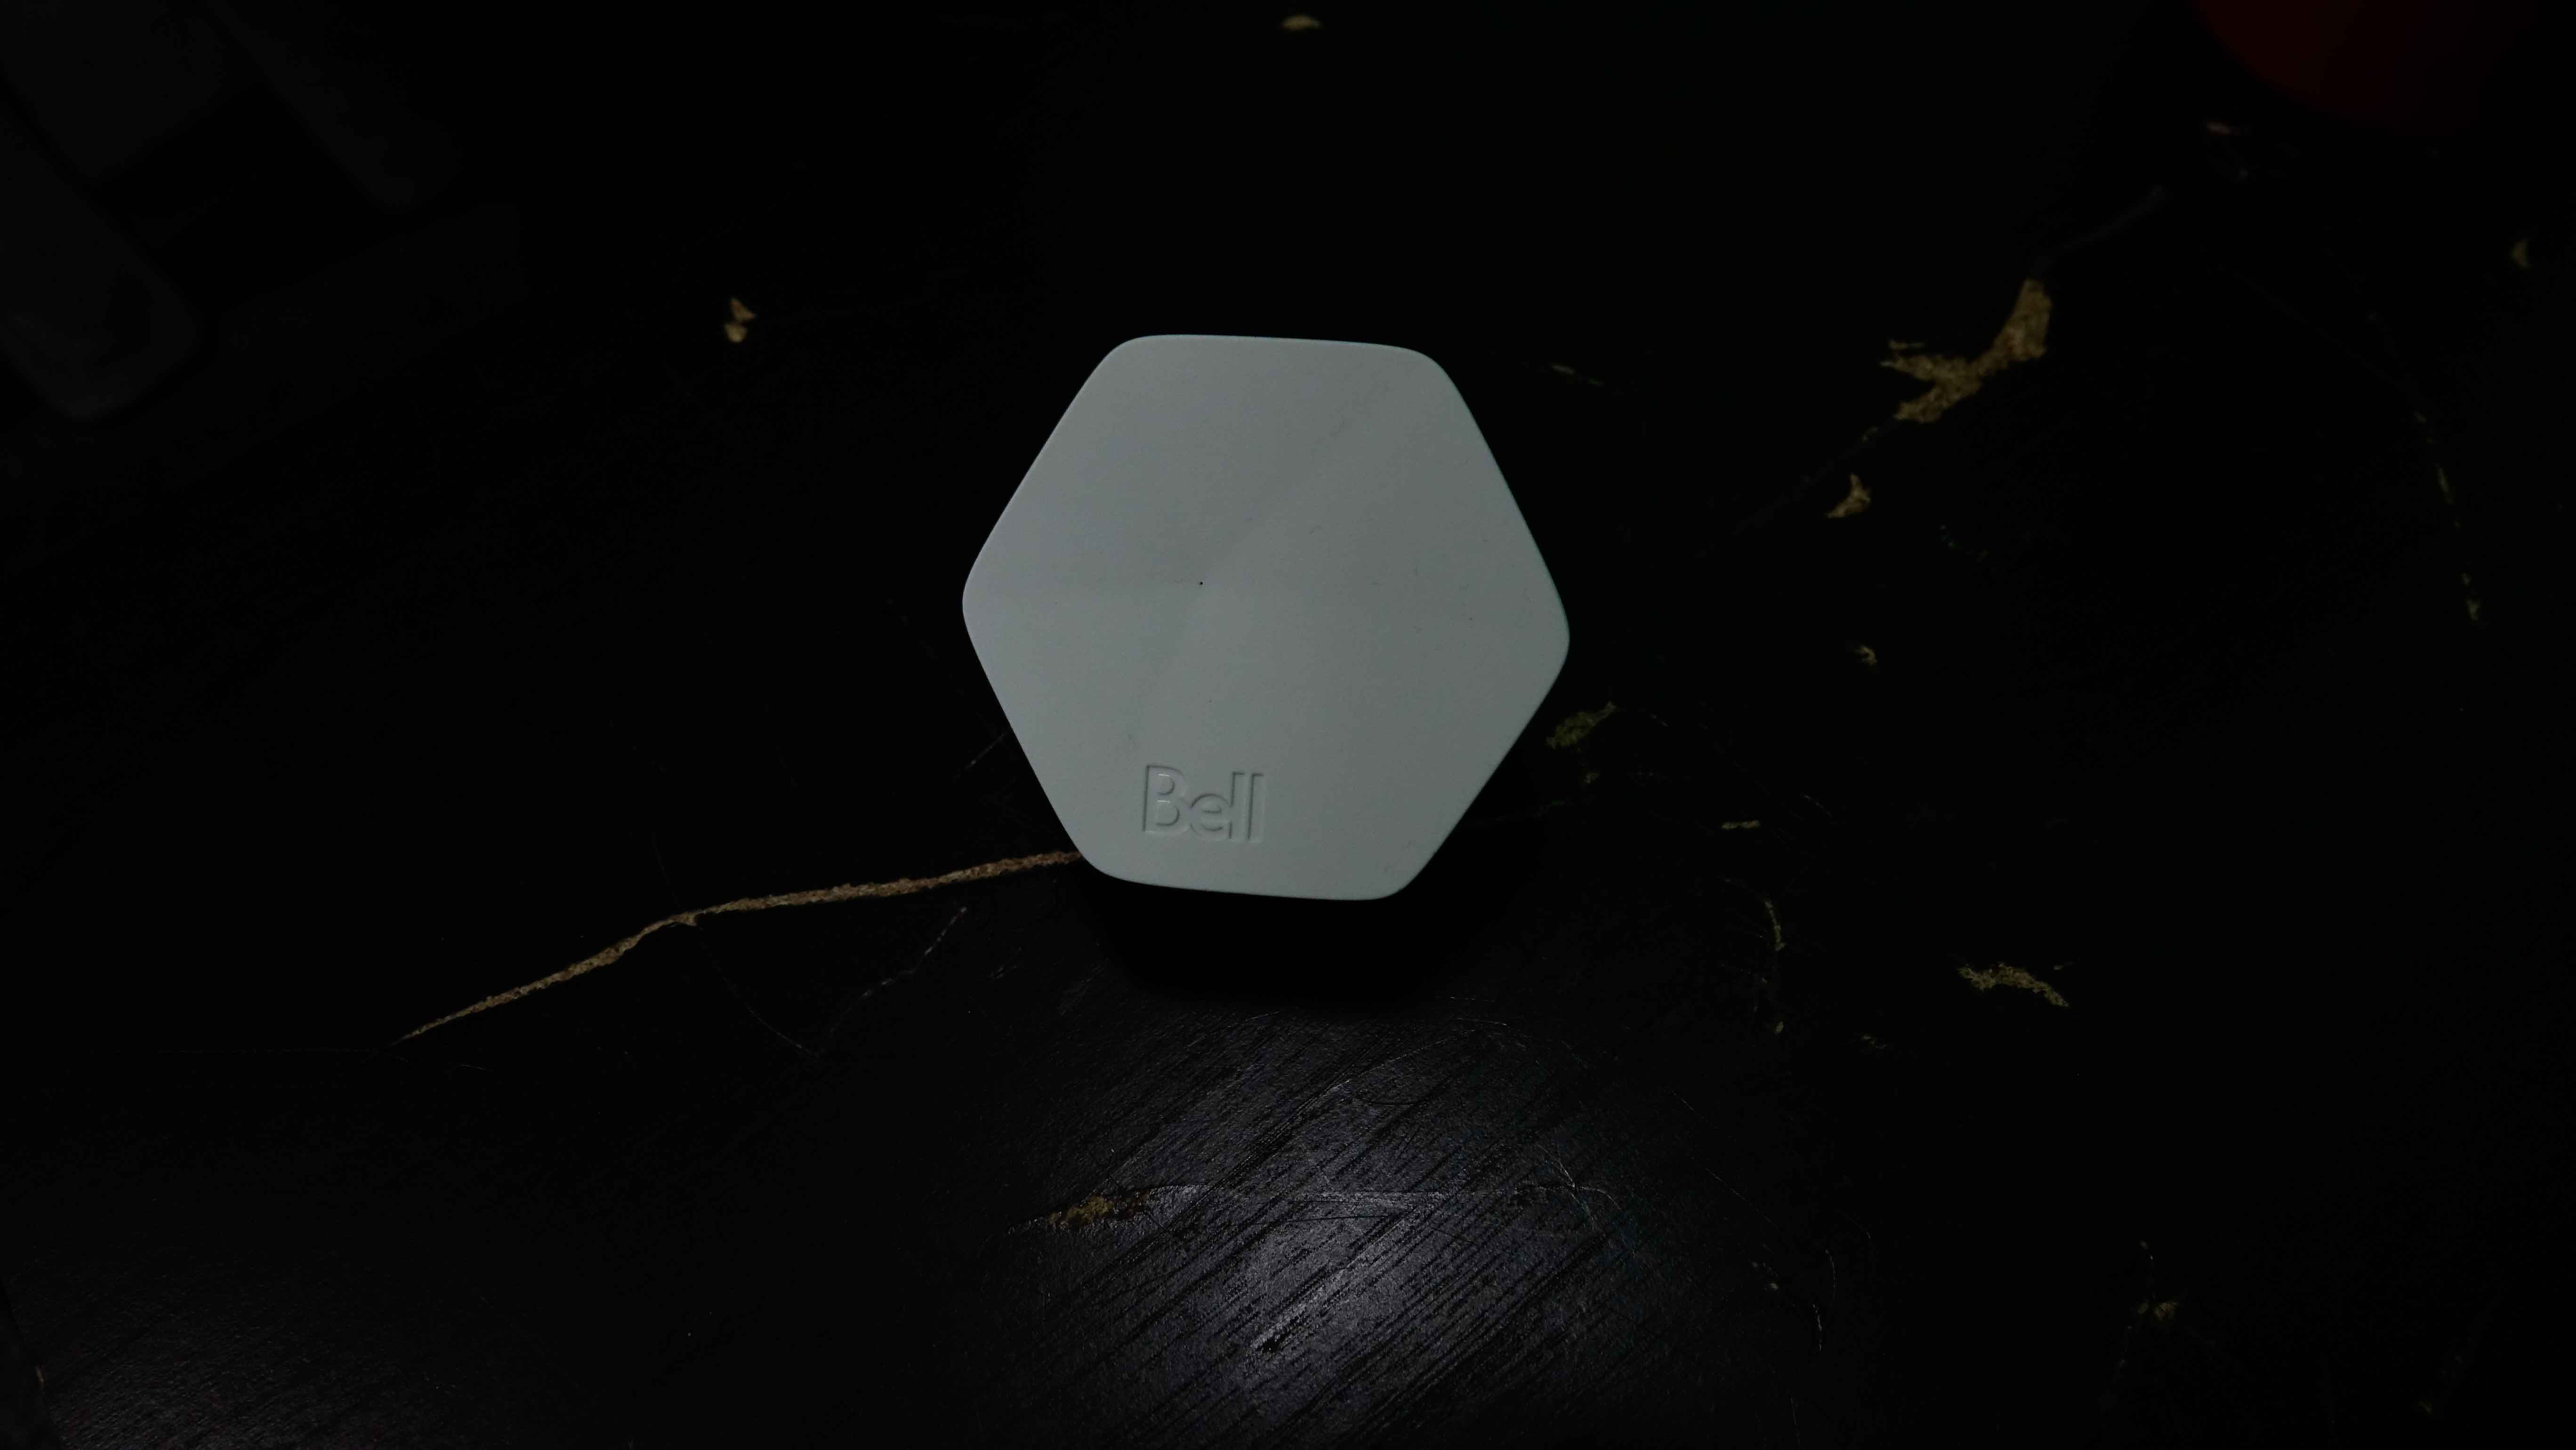pod: (947, 322, 1591, 920)
